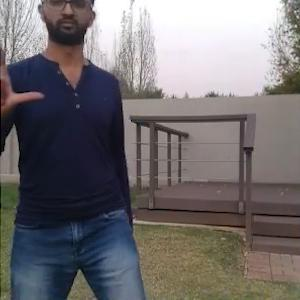land_hand: (0, 35, 50, 125)
